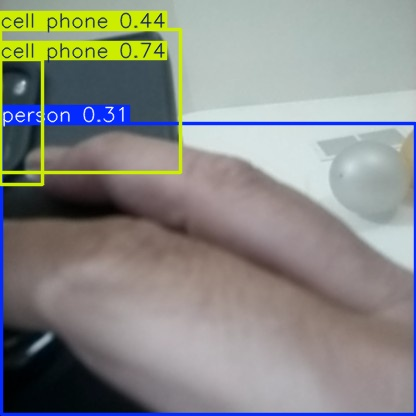phone: (3, 30, 180, 172)
